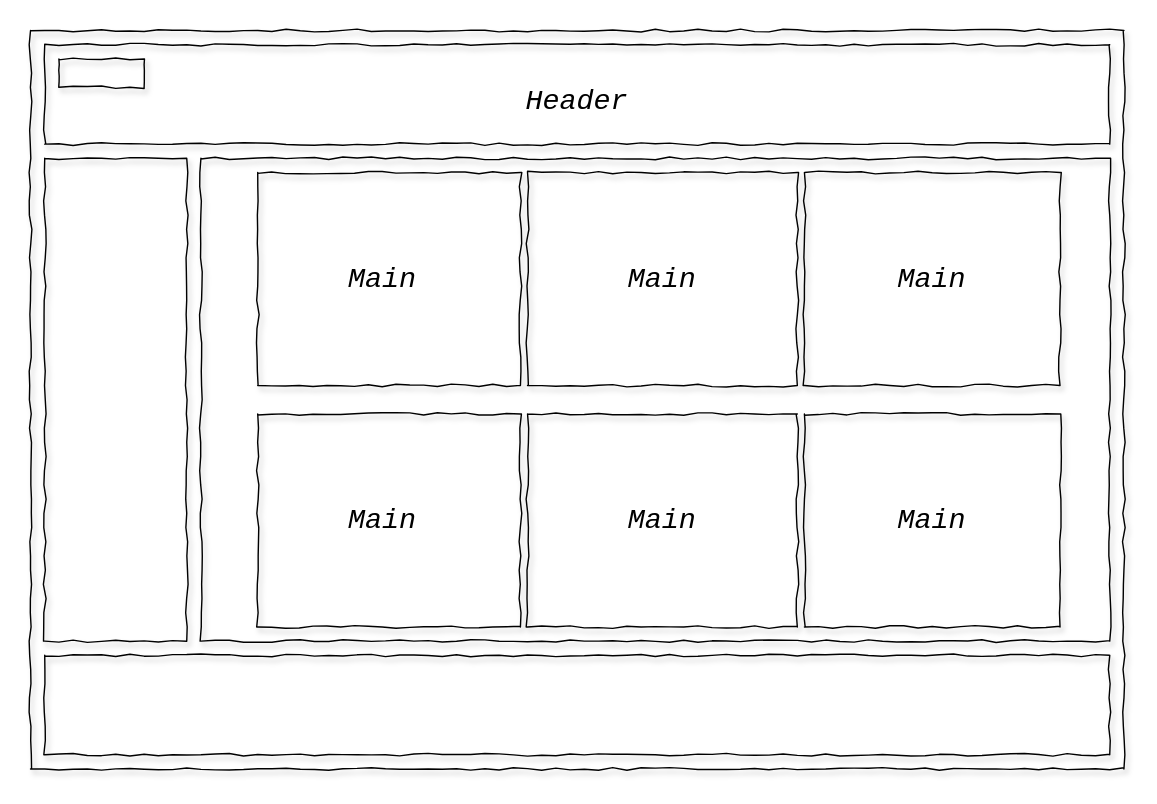
Some shapes in this 1157 by 804 pixel diagram are drawn without their labels. Each missing label, with the centre of its shape:
Footer: point 578,706
Menu: point 116,401
Options: point 102,74
